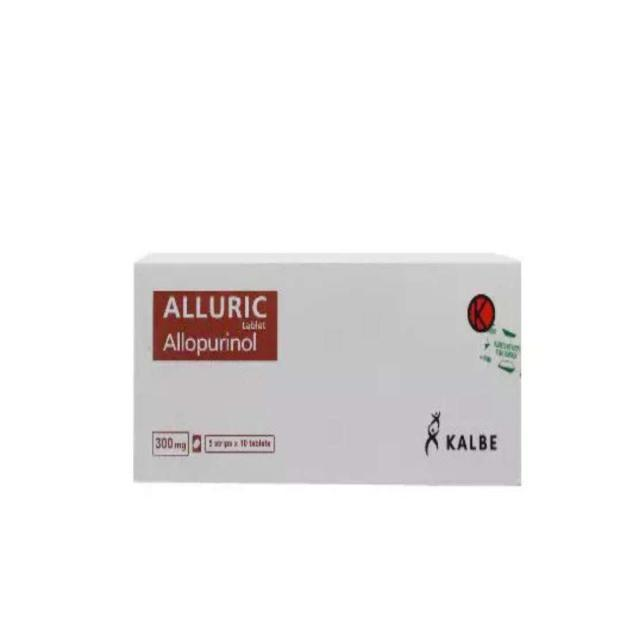drug-name: (443, 411, 510, 458)
